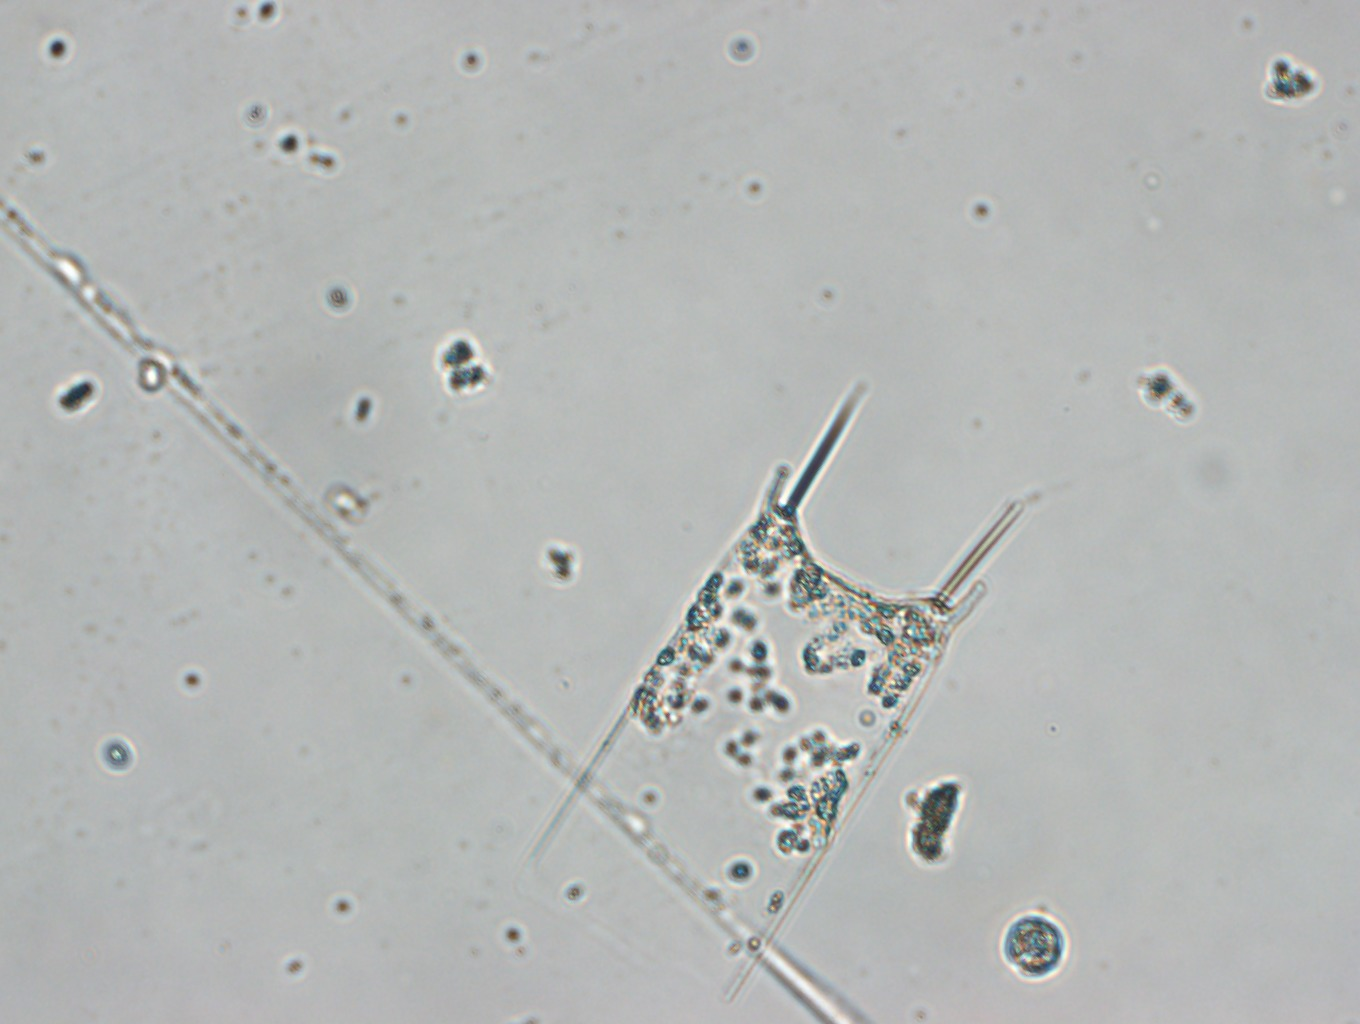biddulphia: (526, 387, 1033, 966)
